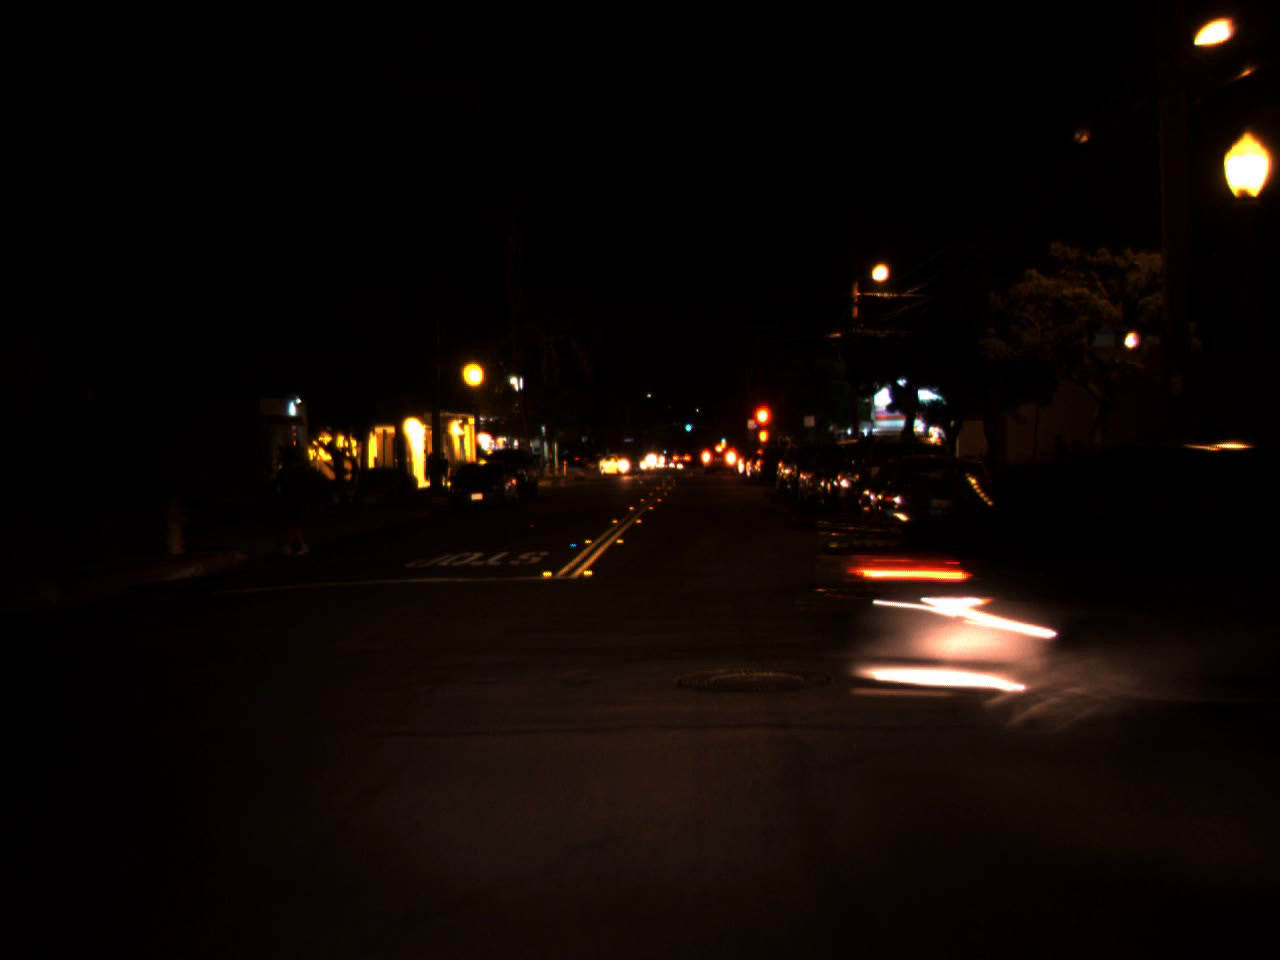go: (683, 417, 692, 432), (719, 431, 726, 443)
stop: (751, 401, 773, 455)
